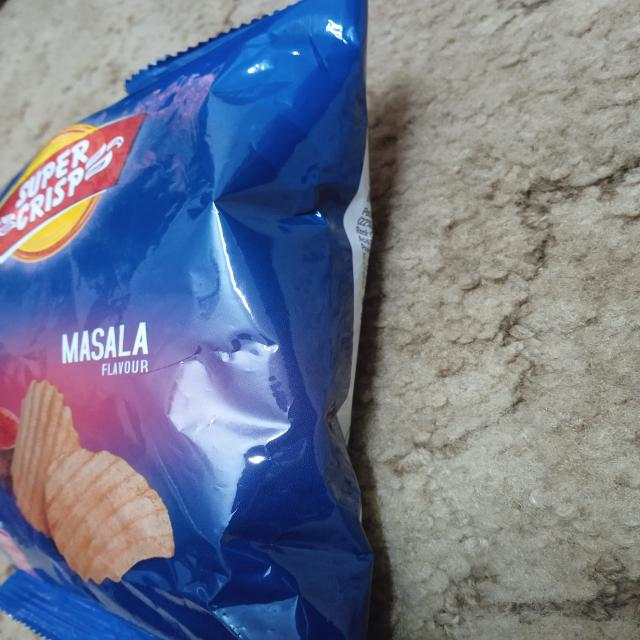Plastic: (2, 0, 396, 640)
